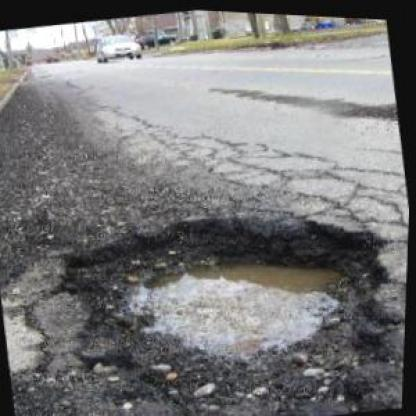pothole: (48, 176, 410, 415)
